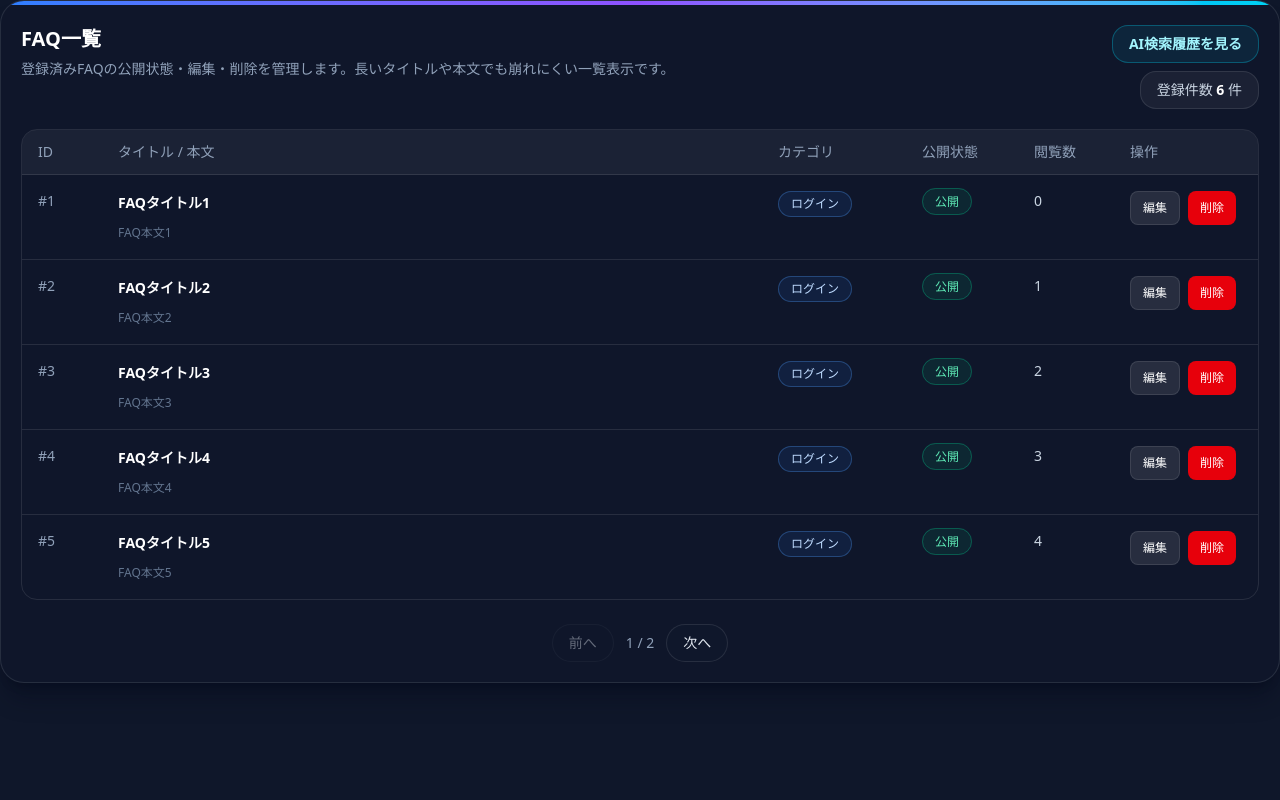
Test case: AdminPage › 前へボタンで1ページ目に戻る
The image size is (1280, 800).
Click the button "次へ": (697, 643) [666,624,728,662]
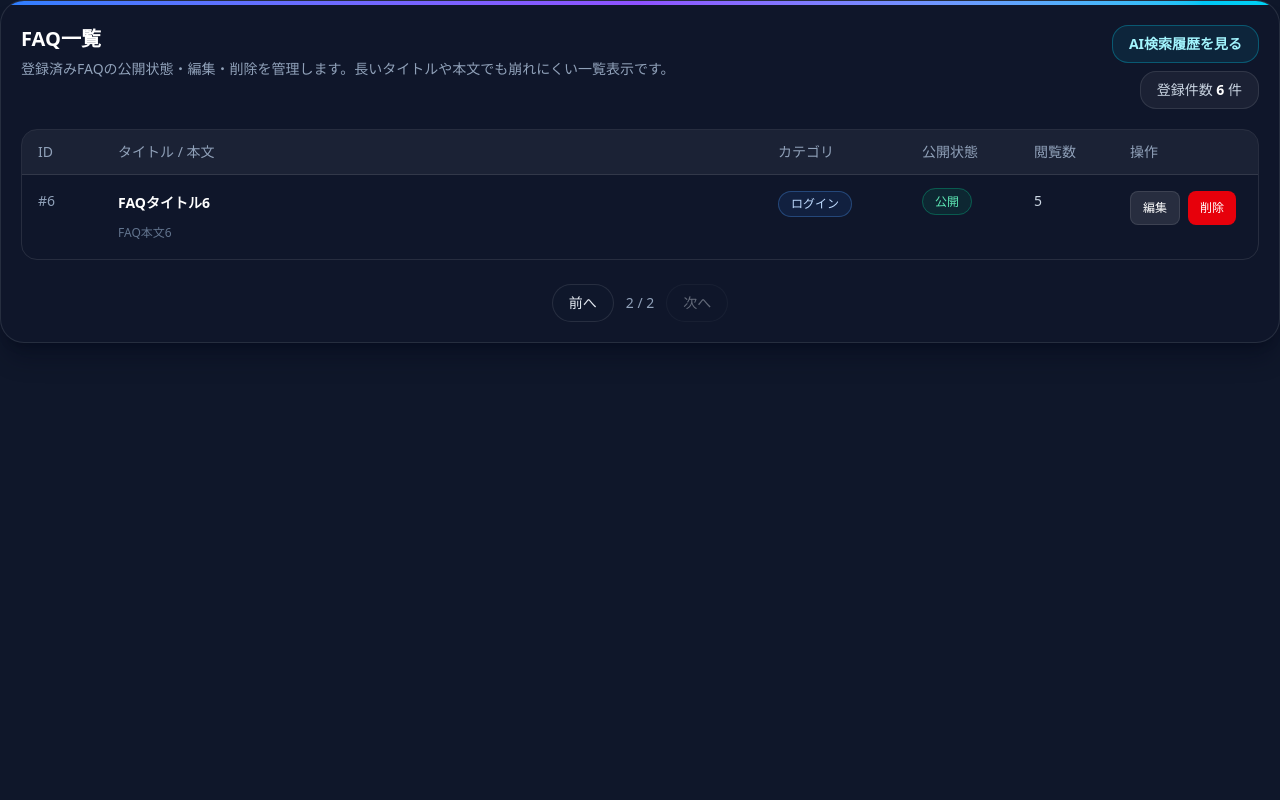
Click the button "前へ": (583, 303) [552,284,614,322]
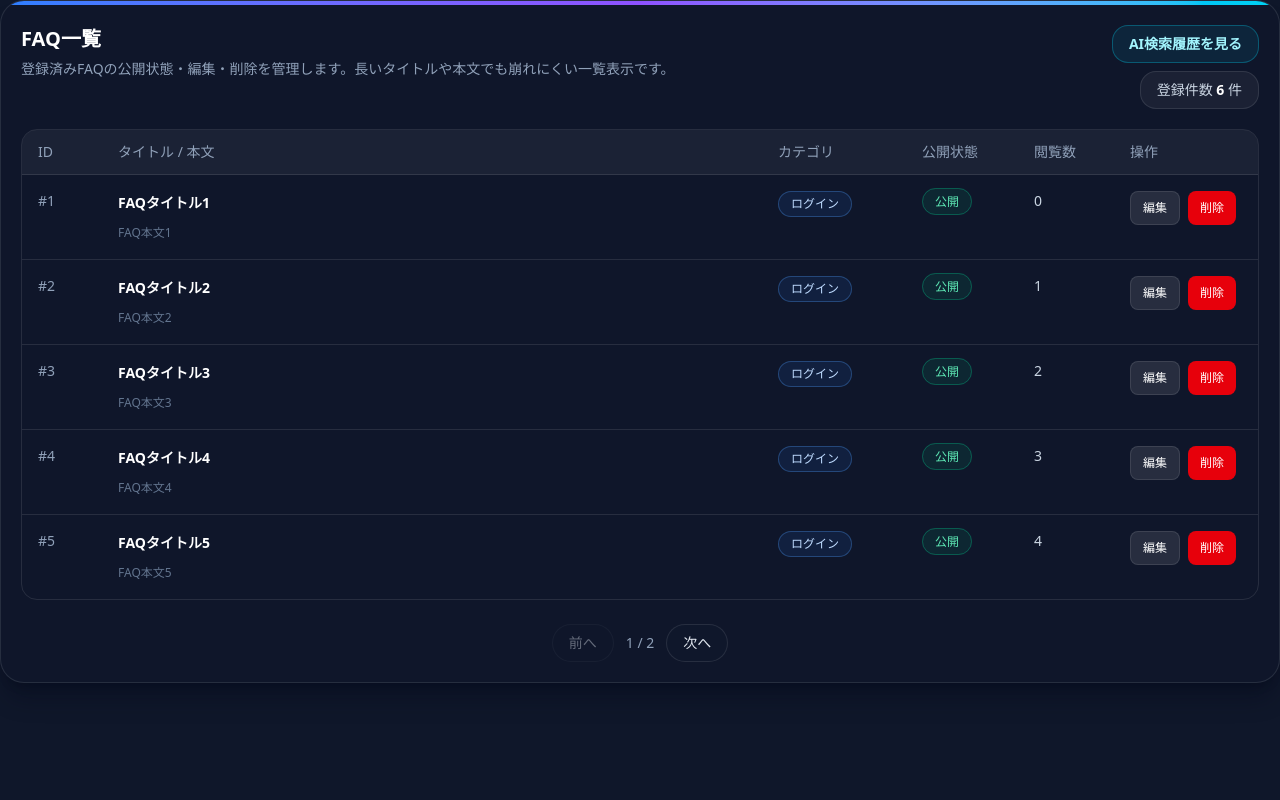
Check: the text "1 / 2" is shown, box [626,633,654,653]
